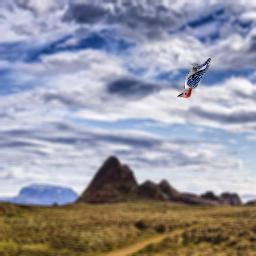Woodpecker: (177, 58, 211, 98)
